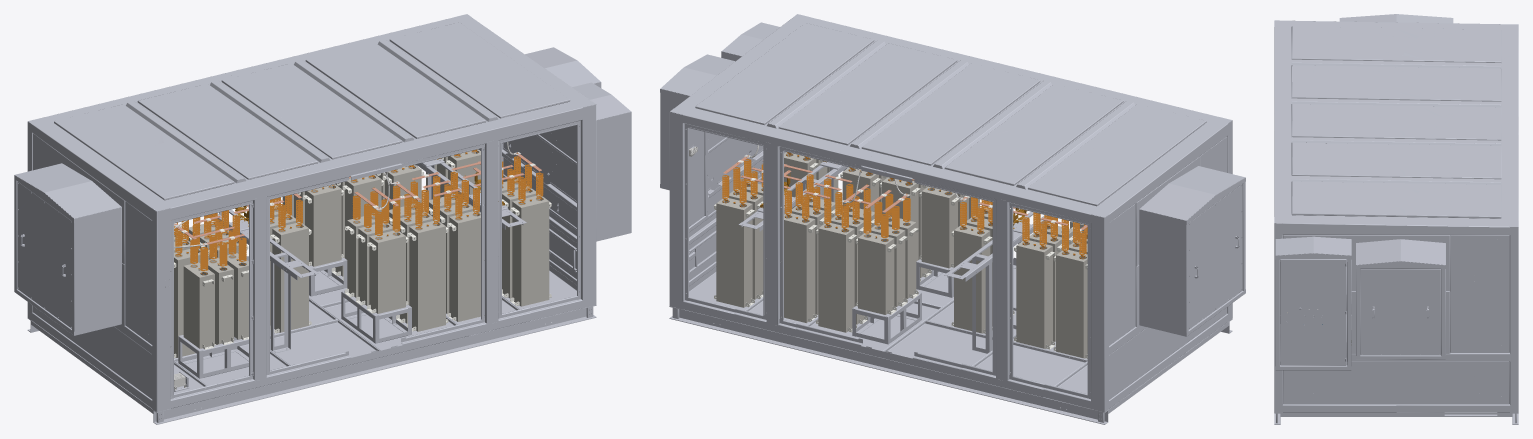
Rendered from panel_optimized_v3.glb.
3 views of the same model, side by side, from view 1: azimuth 30°, elevation 25°; view 2: azimuth 150°, elevation 25°; view 3: azimuth 270°, elevation 25° (orthographic). The views are drawn at different scales.
Parts seen in each view (by area): view 1: frame_structure, cable_assembly; view 2: frame_structure, cable_assembly; view 3: frame_structure.
Boxes of the visible parts, x1,y1,x2,y2 form: frame_structure: (14, 14, 631, 424); cable_assembly: (174, 149, 543, 274); frame_structure: (660, 14, 1245, 424); cable_assembly: (722, 152, 1087, 259); frame_structure: (1274, 14, 1518, 424).
Size of the model in its own units: 6.76 by 2.58 by 2.8.
